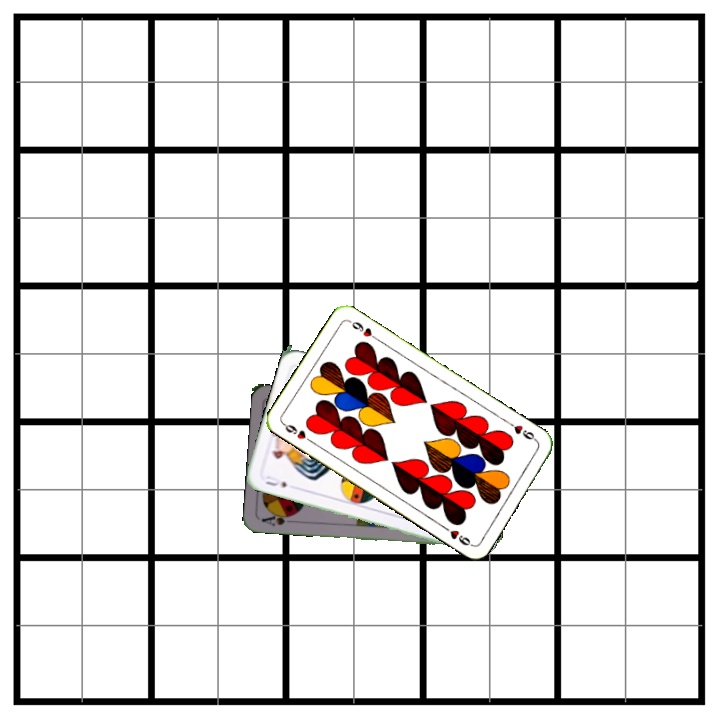H9: (279, 419, 316, 446), (504, 418, 540, 445)
SA: (257, 509, 298, 528)
SU: (262, 471, 289, 490)
